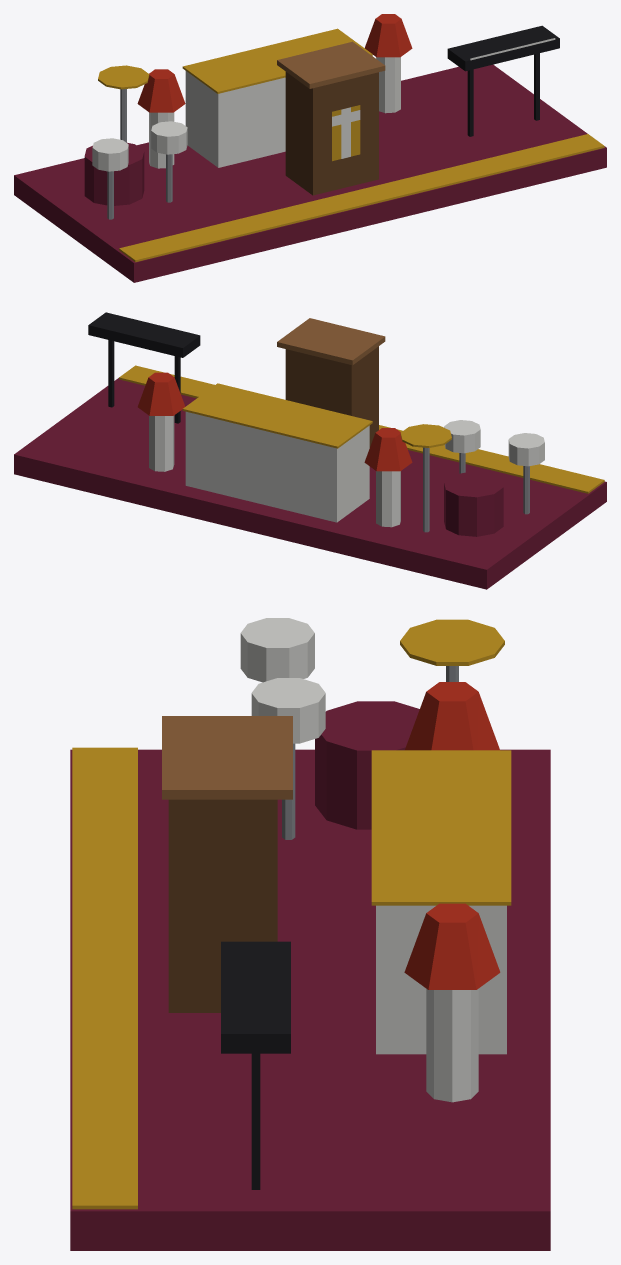
The model's file is prop_altar.glb.
3 renders of one model, top to bottom at view 1: azimuth 30°, elevation 25°; view 2: azimuth 150°, elevation 25°; view 3: azimuth 270°, elevation 25°, orthographic. The views are drawn at different scales.
Visible parts, largest first — view 1: body; view 2: body; view 3: body.
Boxes of the visible parts, <box> form: body: <box>14,14,606,282</box>; body: <box>14,312,606,589</box>; body: <box>70,618,550,1250</box>.
Bounding box in the file's own units: 5 × 1.35 × 2.2.
